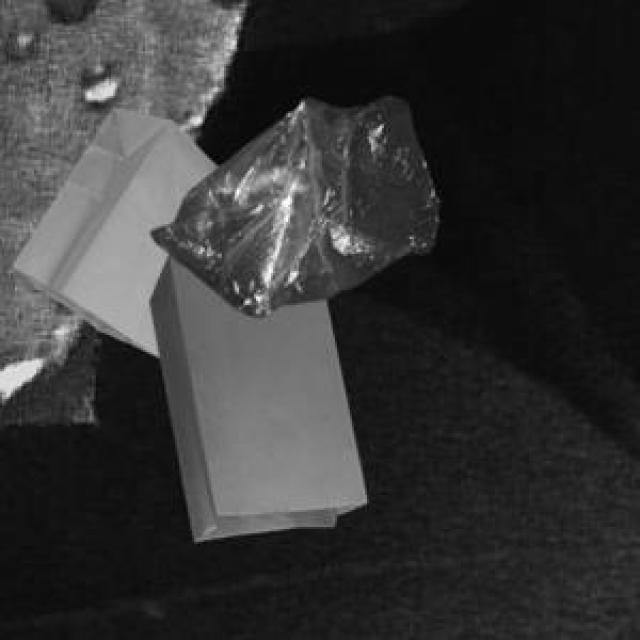paper: (147, 250, 363, 538), (11, 105, 213, 354)
